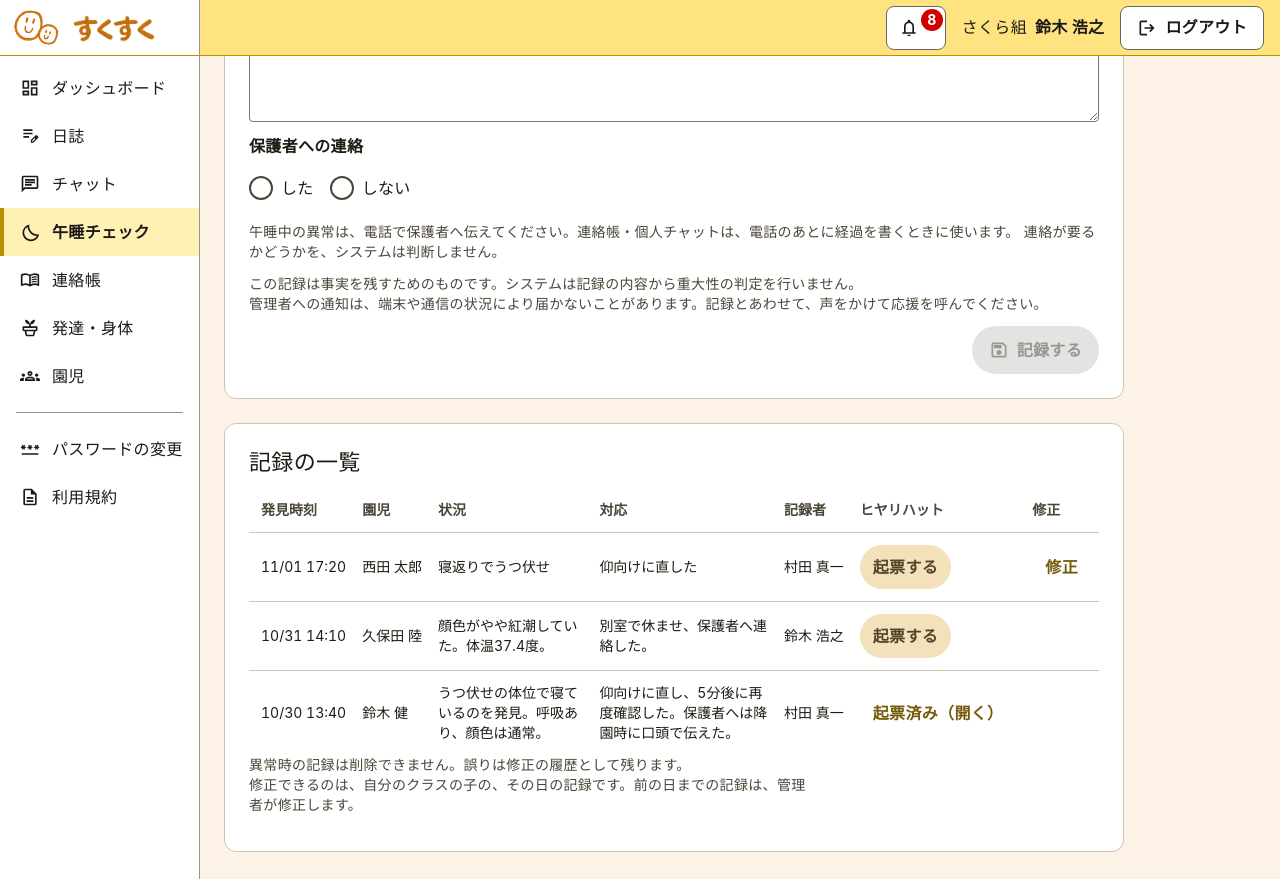
Test: 異常時記録画面の「修正」 › 同じ画面の中で直す。理由が無ければ断られた文言を出し、入れれば行を書き換えて「修正あり」を出し、「修正」へ戻る
(page scrolled)
Expected: the row "11/01 17:20 西田 太郎 寝返りでうつ伏せ 仰向けに直した 村田 真一 起票する 修正" is shown, 249,532 -> 1099,602
Click the button "修正".
click(1062, 567)  # box 1032,545 -> 1091,589
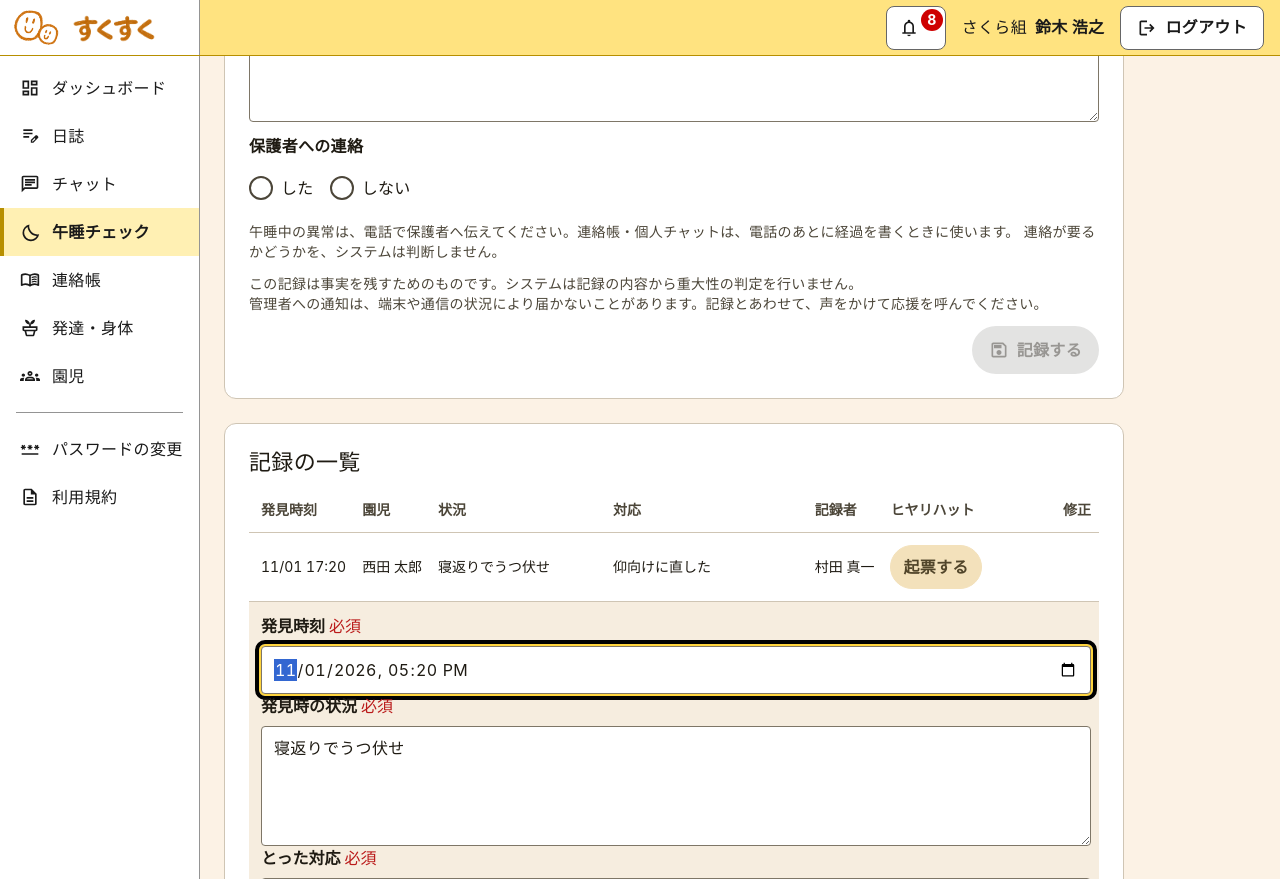
Expected: the text box labelled "発見時の状況" holds "寝返りでうつ伏せ"
Replace the text in the text box labelled "発見時の状況" with "寝返りでうつ伏せになっていた" at (676, 786), box 261,726 -> 1091,846
(page scrolled)
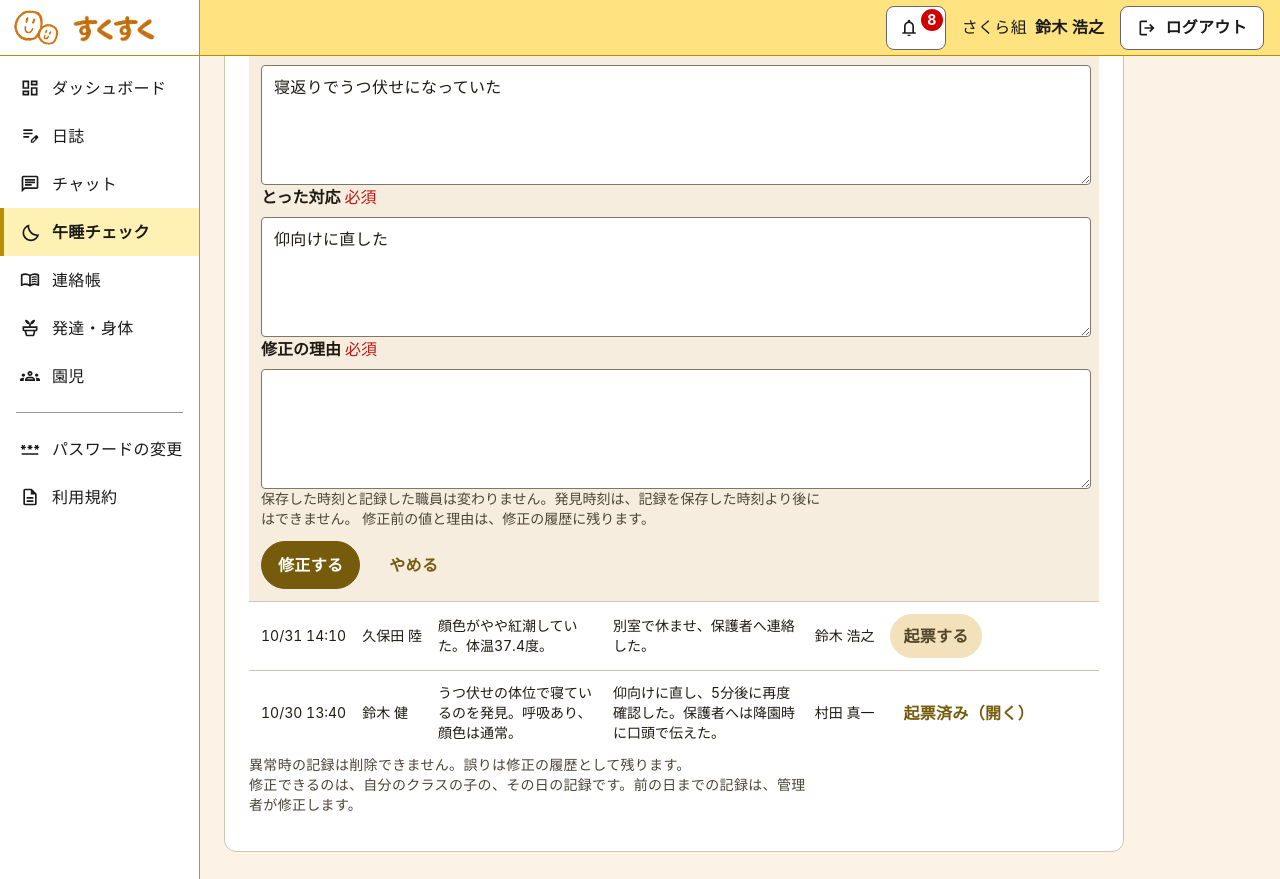
Click the button "修正する".
click(311, 565)  # box 261,541 -> 360,589
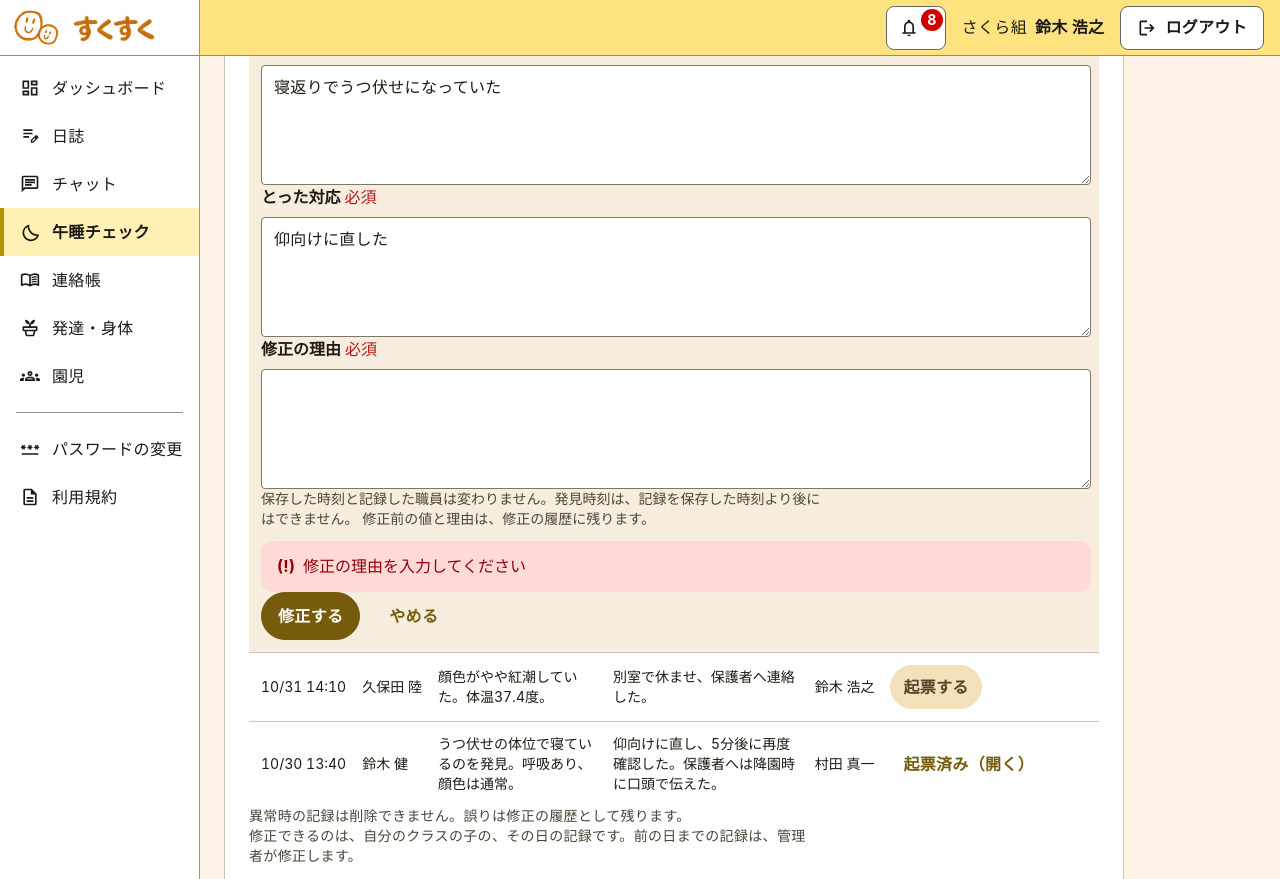
Expected: the text "修正の理由を入力してください" is shown, 303,553 -> 526,580
Type "書き足した" into the text box labelled "修正の理由".
click(676, 429); type("書き足した")  # box 261,369 -> 1091,489
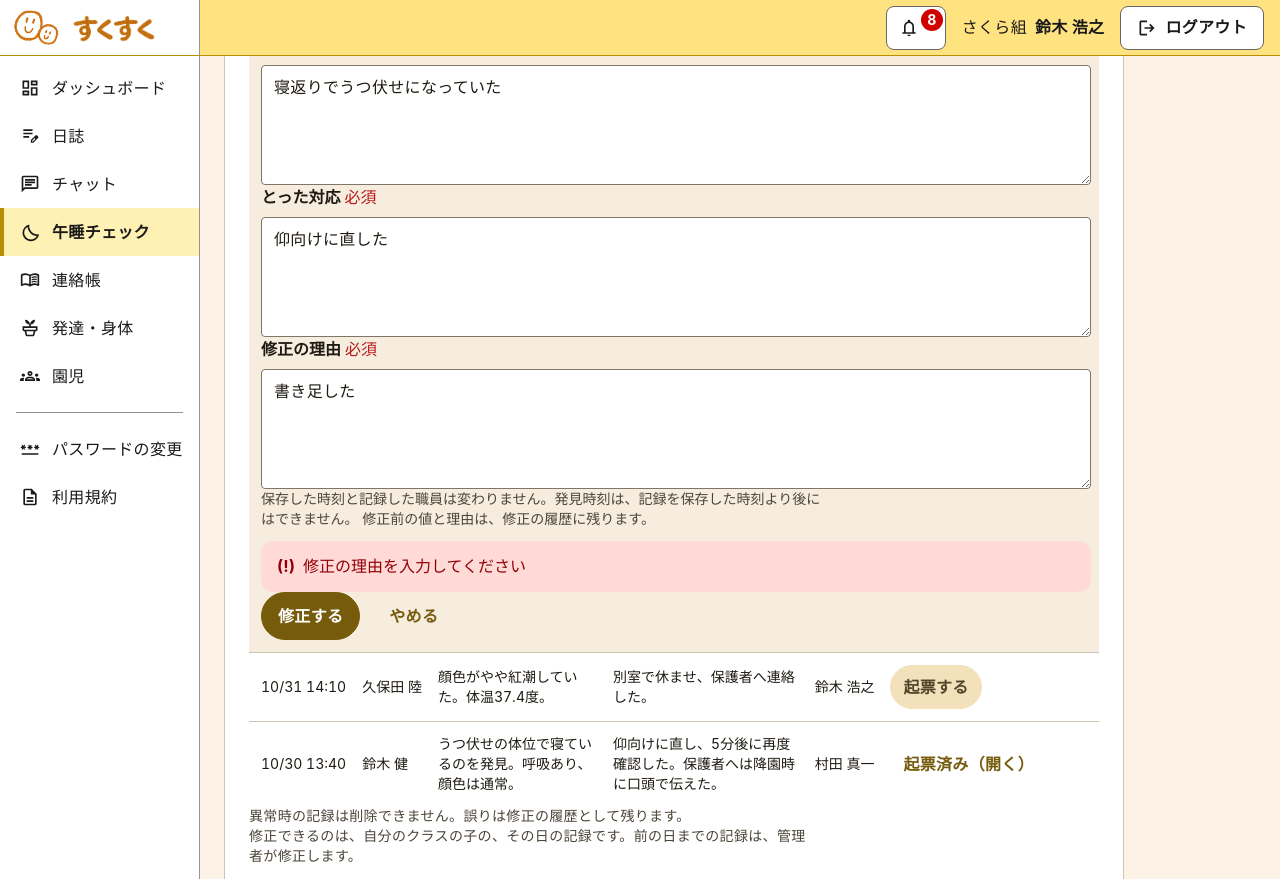
Click the button "修正する".
click(311, 616)  # box 261,592 -> 360,640
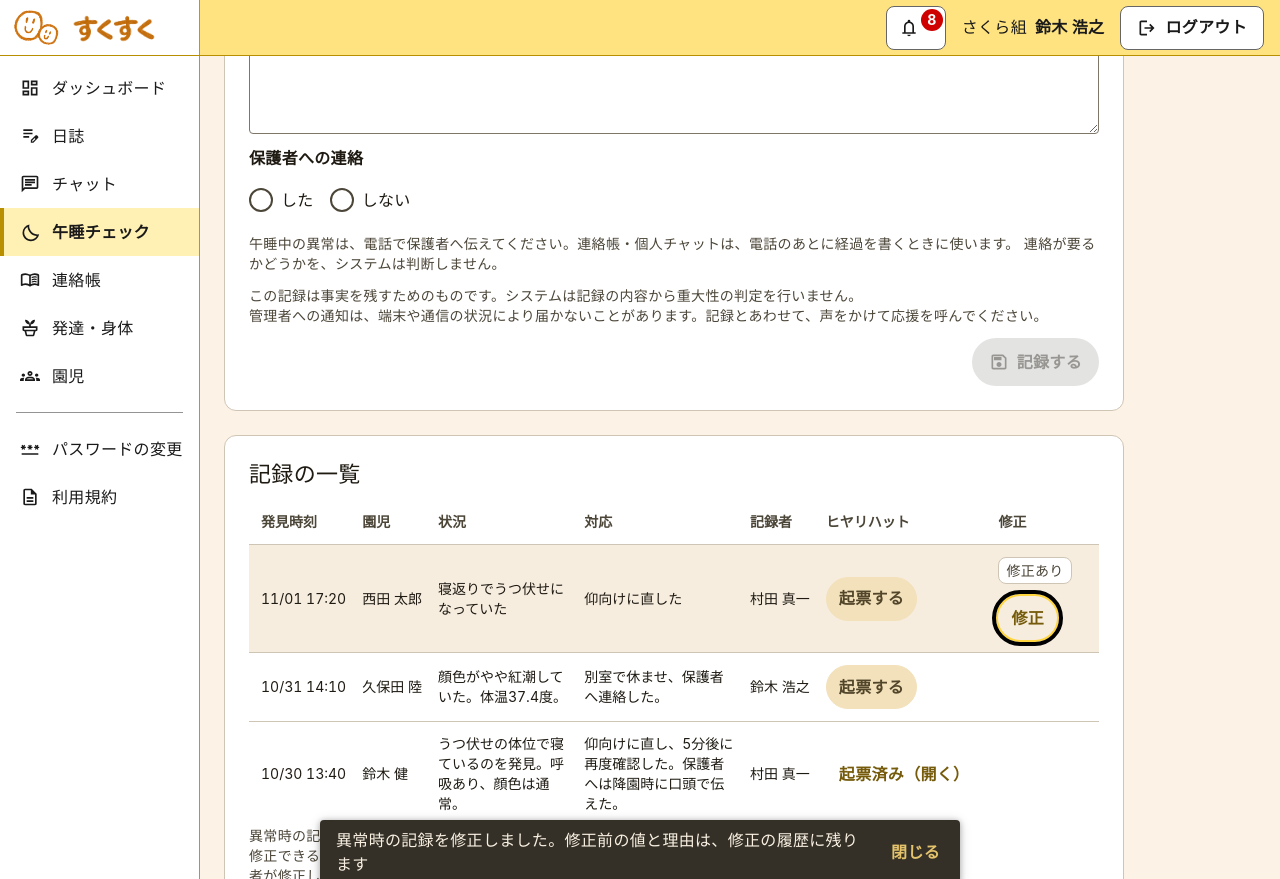
Expected: the row "11/01 17:20 西田 太郎 寝返りでうつ伏せになっていた 仰向けに直した 村田 真一 起票する 修正あり 修正" is shown, 249,544 -> 1099,652
